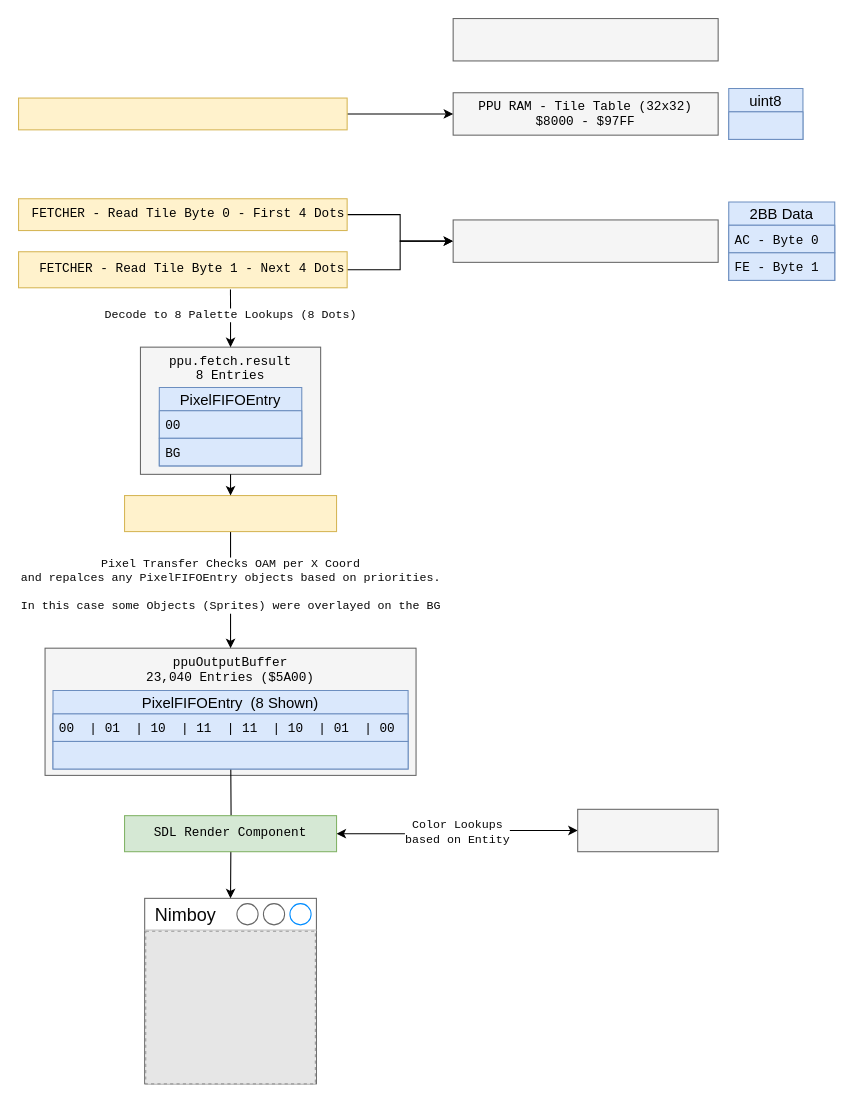
Image size: 853x1102. Some labels were removed from this diagram. Grey dashed boxes stand in for pictures. The centre of each missing label's shape, as x and y in pixels:
BG | BG | BG | BG | SP0 | SP1 | SP1 | SP1: point (230, 754)
FETCHER - Read Tile #: point (182, 113)
Pixel Transfer Component: point (230, 513)
PPU bgpi / bgpd $FF47 / $FF48: point (647, 830)
PPU Ram - OAM $FE00-FE9F: point (585, 39)
PPU Tile Databank 0 - Tile Data $8000 - $97FF: point (585, 240)
Tile #: point (765, 125)
